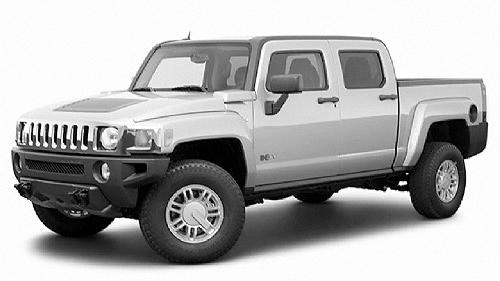car: (11, 31, 491, 265)
